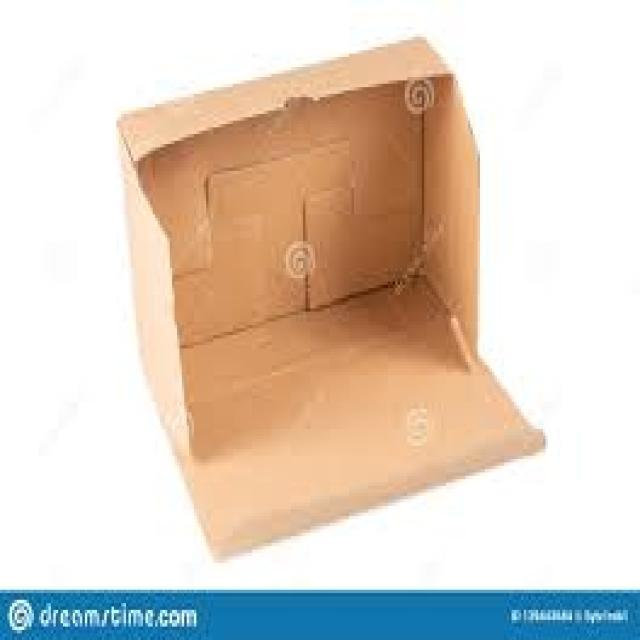Cardboard: (115, 34, 554, 553)
